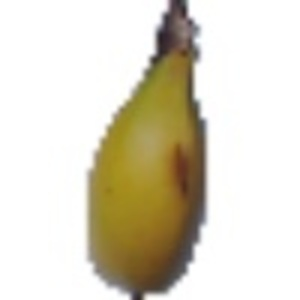banana: (75, 3, 222, 291)
